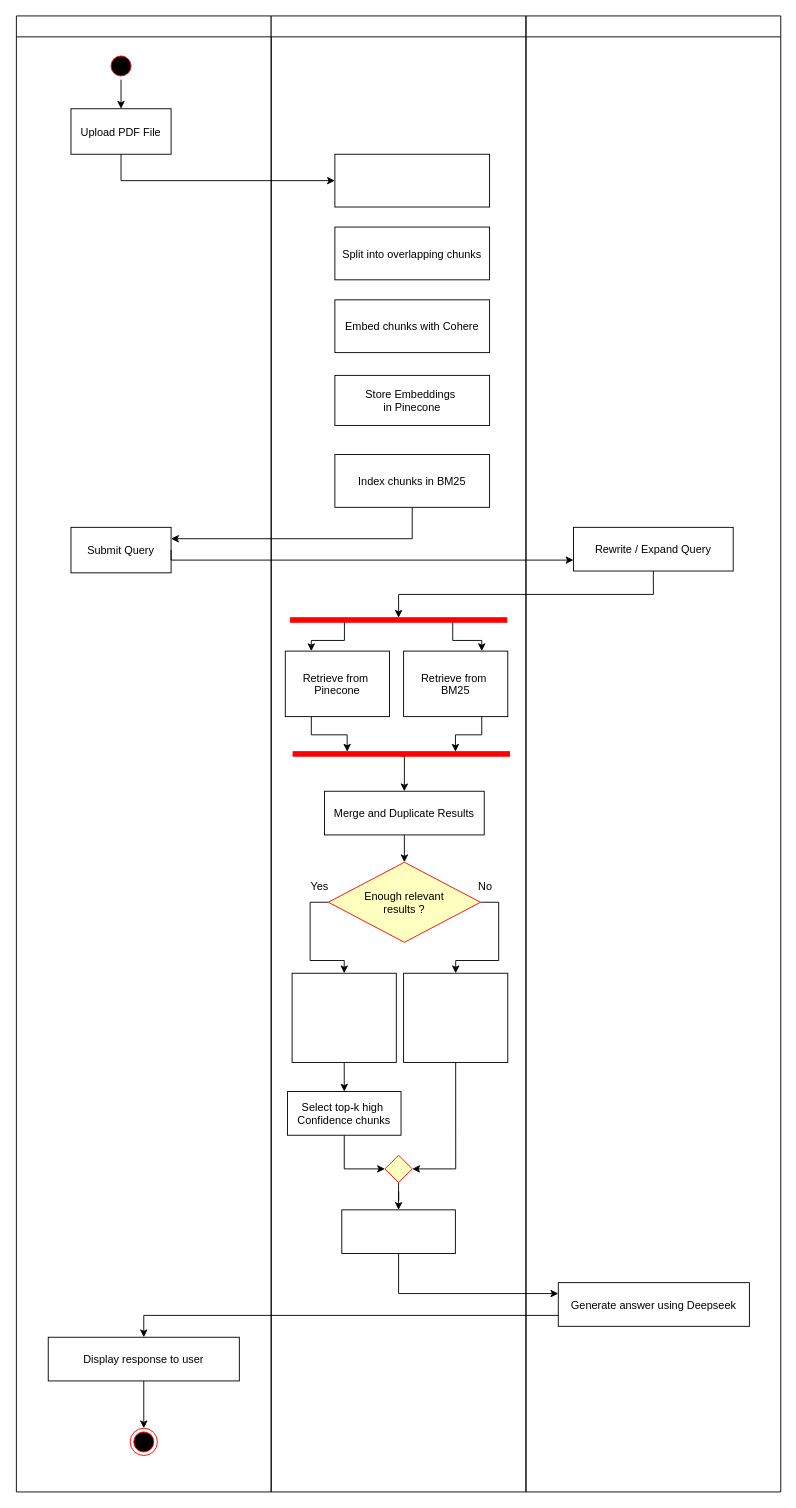
The diagram is 796 pixels wide and 1508 high, and some of its shapes have lost their labels. Here are the shapes that lost their labels. From the top down, the box of each, then its label:
(334, 153, 490, 207): Extract text and tables
(15, 15, 271, 1492): User / Interface
(270, 15, 526, 1492): Retrieval and Augmentation
(525, 15, 781, 1492): Response Generation (LLM)
(291, 972, 396, 1062): Re-rank using Cohere
(403, 972, 508, 1062): Fallback to full document summary or notify user
(341, 1209, 455, 1254): Build Final Context
